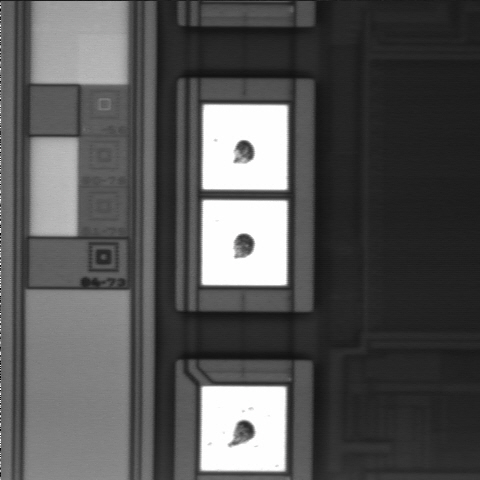pad: (202, 200, 287, 285), (201, 386, 286, 471), (203, 105, 287, 190)
